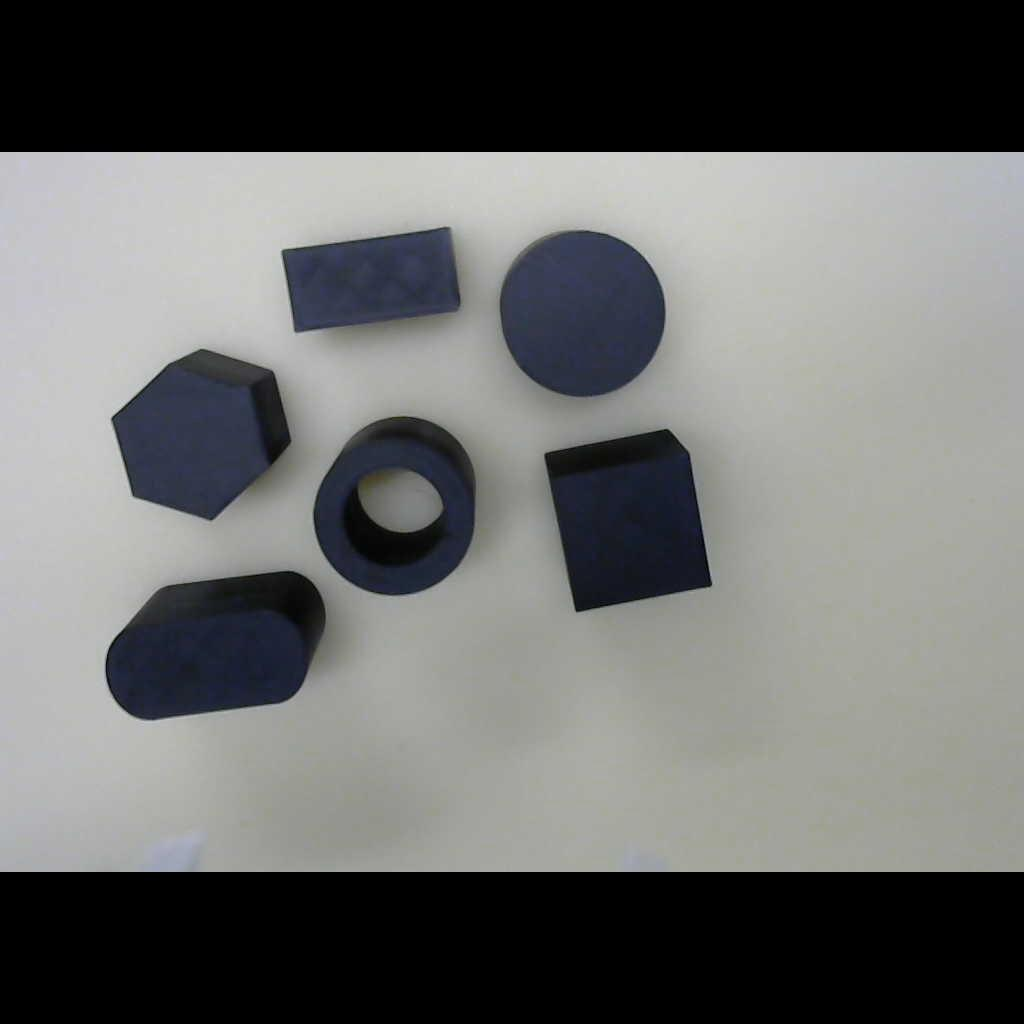circle: (501, 231, 666, 399)
hexagon: (98, 325, 312, 538)
oval: (82, 557, 349, 736)
rectangle: (269, 216, 474, 343)
ring: (302, 406, 488, 603)
square: (519, 403, 734, 633)
